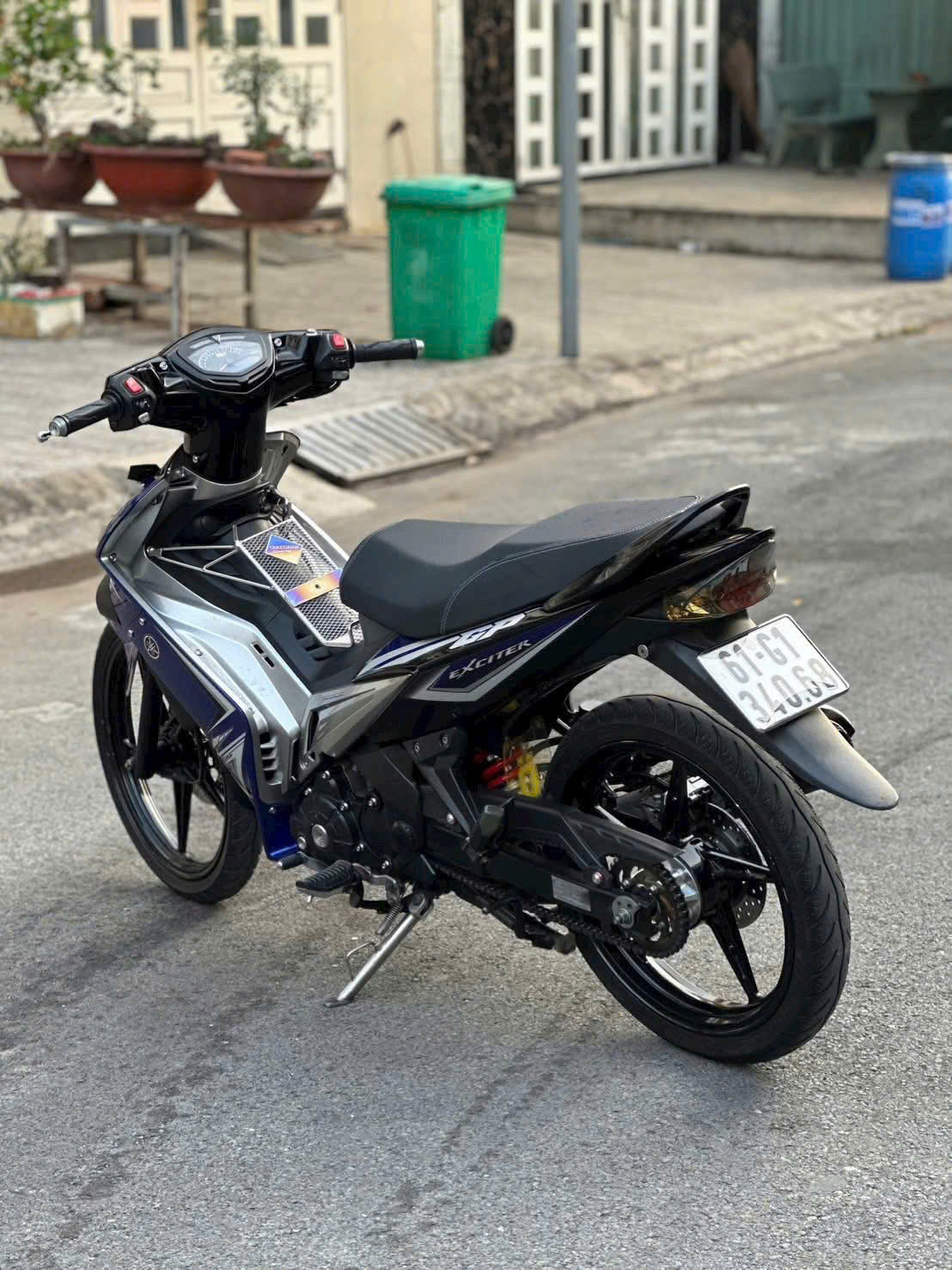Bien-so: (702, 611, 854, 742)
